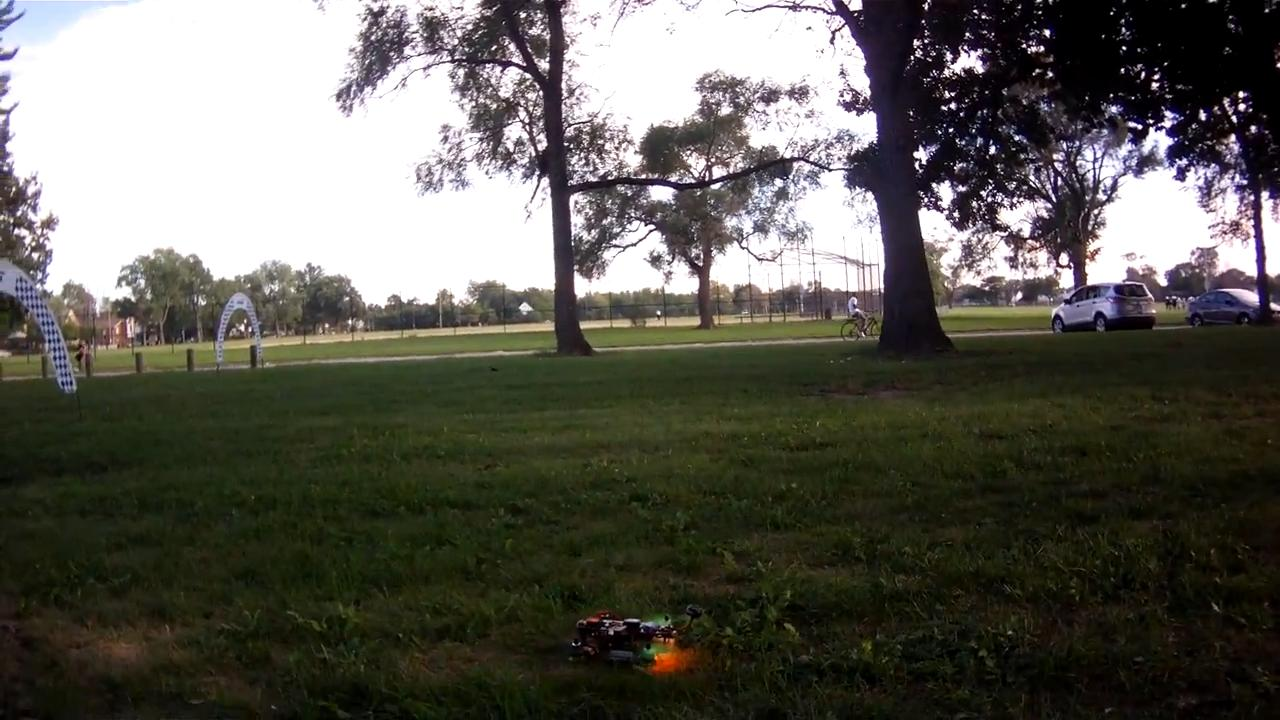gate: (212, 293, 267, 364)
